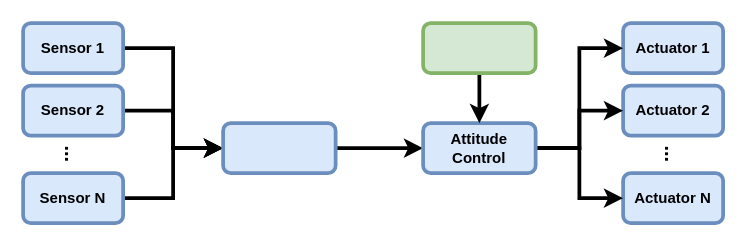
Some shapes in this 746 by 246 pixel diagram are drawn without their labels. Each missing label, with the centre of its shape:
Attitude Determination: the point at 279,147
Desired Attitude: the point at 479,47
